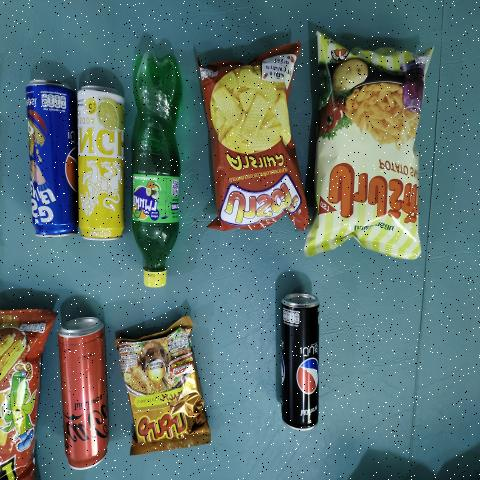coke_red: (61, 317, 106, 468)
fanta_green: (126, 51, 181, 289)
mama: (125, 316, 197, 451)
paprika: (316, 52, 422, 230)
party_red: (221, 54, 289, 218)
pepsi_black: (280, 287, 322, 433)
pepsi_blue: (28, 97, 70, 240)
singha_yellow: (78, 90, 124, 237)
